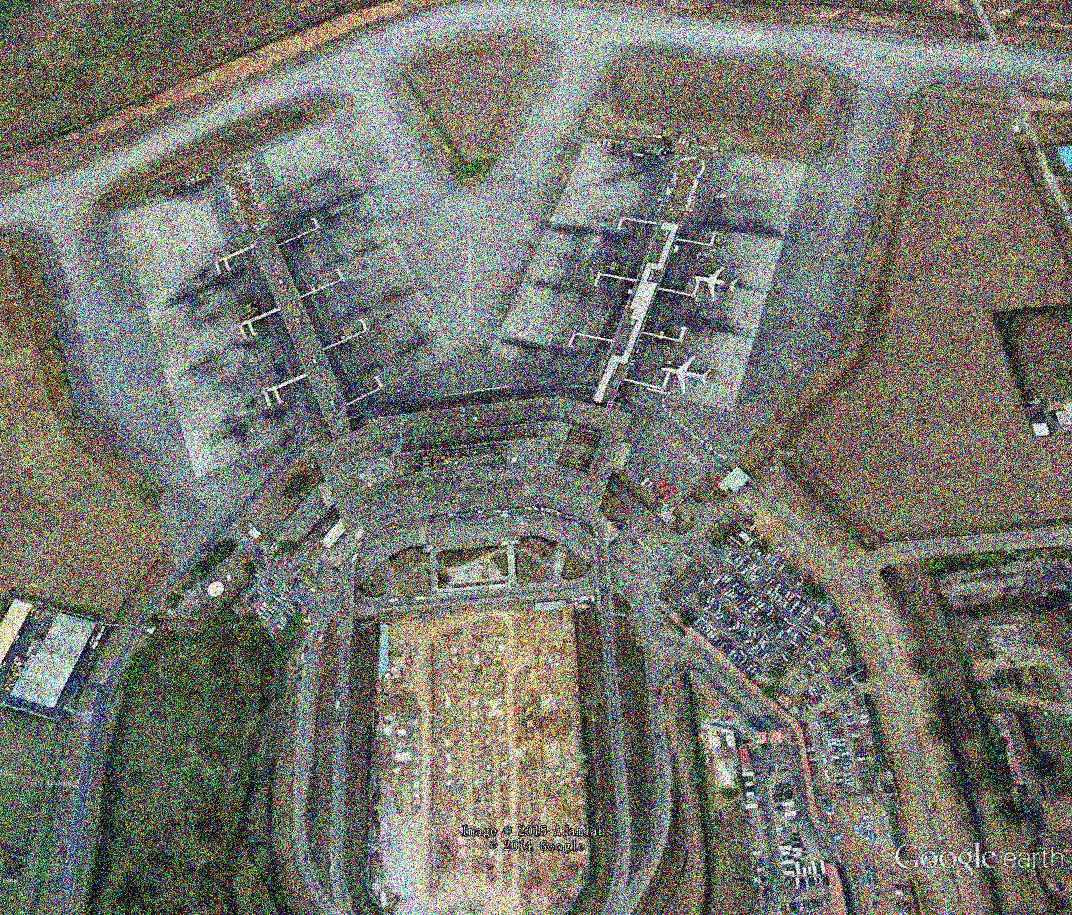aircraft: (655, 352, 717, 399), (690, 262, 744, 304)
